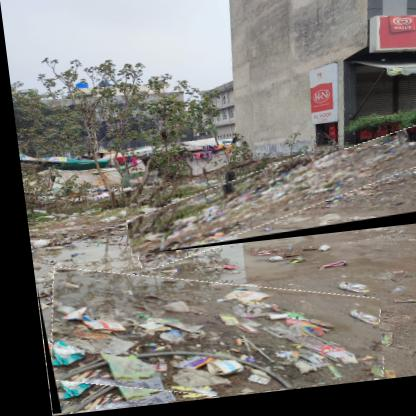Garbage: (30, 257, 377, 416), (117, 150, 416, 260)
